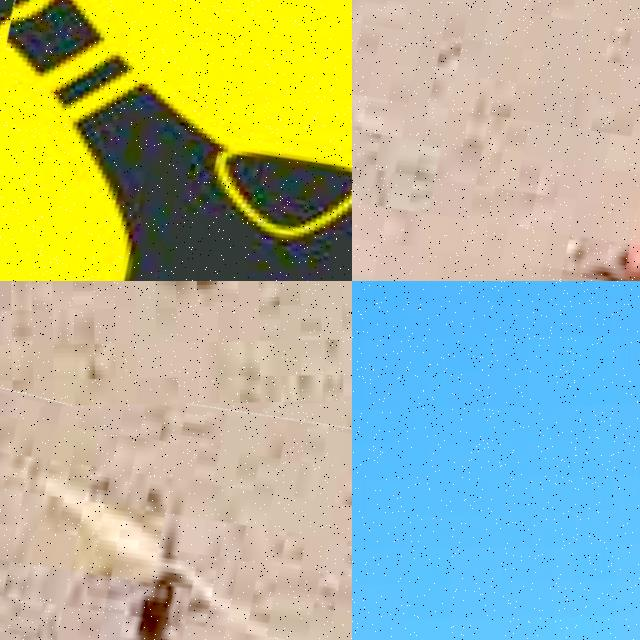0: (0, 397, 352, 640), (352, 0, 640, 281)
drone: (0, 0, 352, 281)
